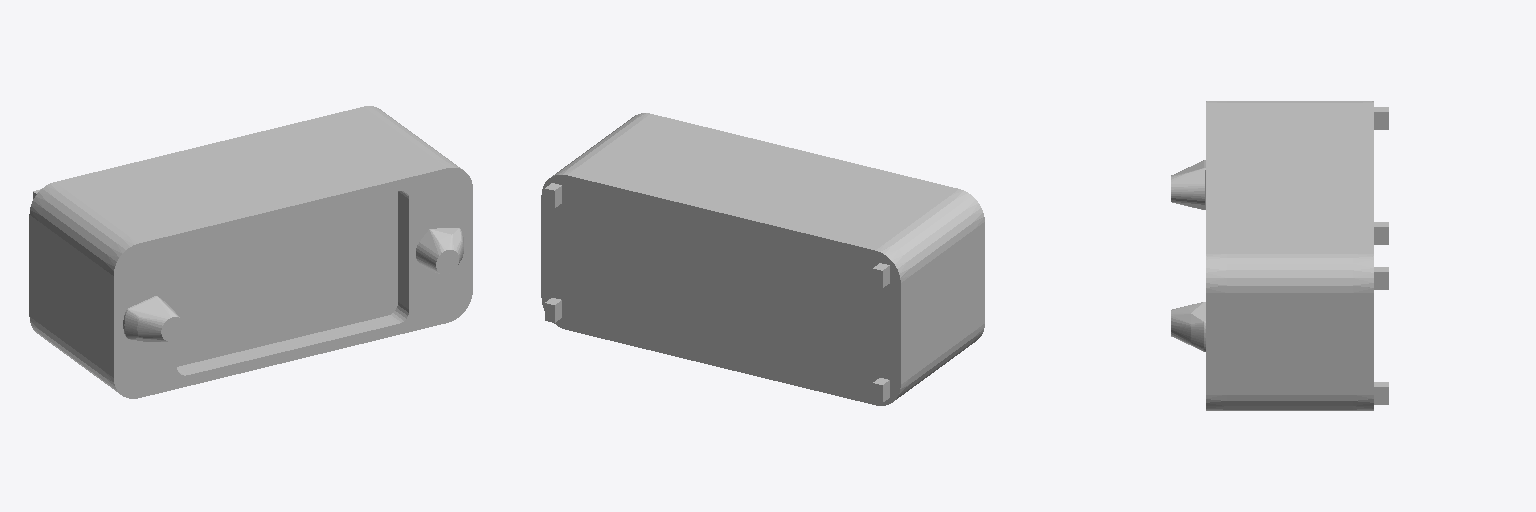
The model's file is mmp_panda_two_arm_base_grocery_collision3.obj.
The picture shows the model from 3 angles: view 1: azimuth 30°, elevation 25°; view 2: azimuth 150°, elevation 25°; view 3: azimuth 270°, elevation 25°; orthographic projection.
Visible parts, largest first — view 1: base_collision.002, Link0, Link0.001; view 2: base_collision.002; view 3: base_collision.002, Link0, Link0.001.
Part boxes in pixels (bbox=[...]): base_collision.002: bbox=[29, 106, 472, 398]; Link0: bbox=[123, 296, 184, 341]; Link0.001: bbox=[416, 228, 463, 274]; base_collision.002: bbox=[541, 113, 984, 405]; base_collision.002: bbox=[1206, 101, 1388, 410]; Link0: bbox=[1171, 160, 1205, 209]; Link0.001: bbox=[1171, 302, 1205, 351].
Bounding box in the file's own units: 1.7 × 0.7 × 0.89.